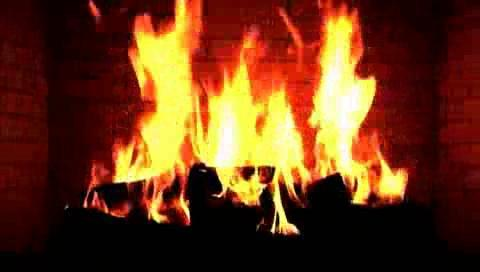fire: (113, 13, 393, 219)
